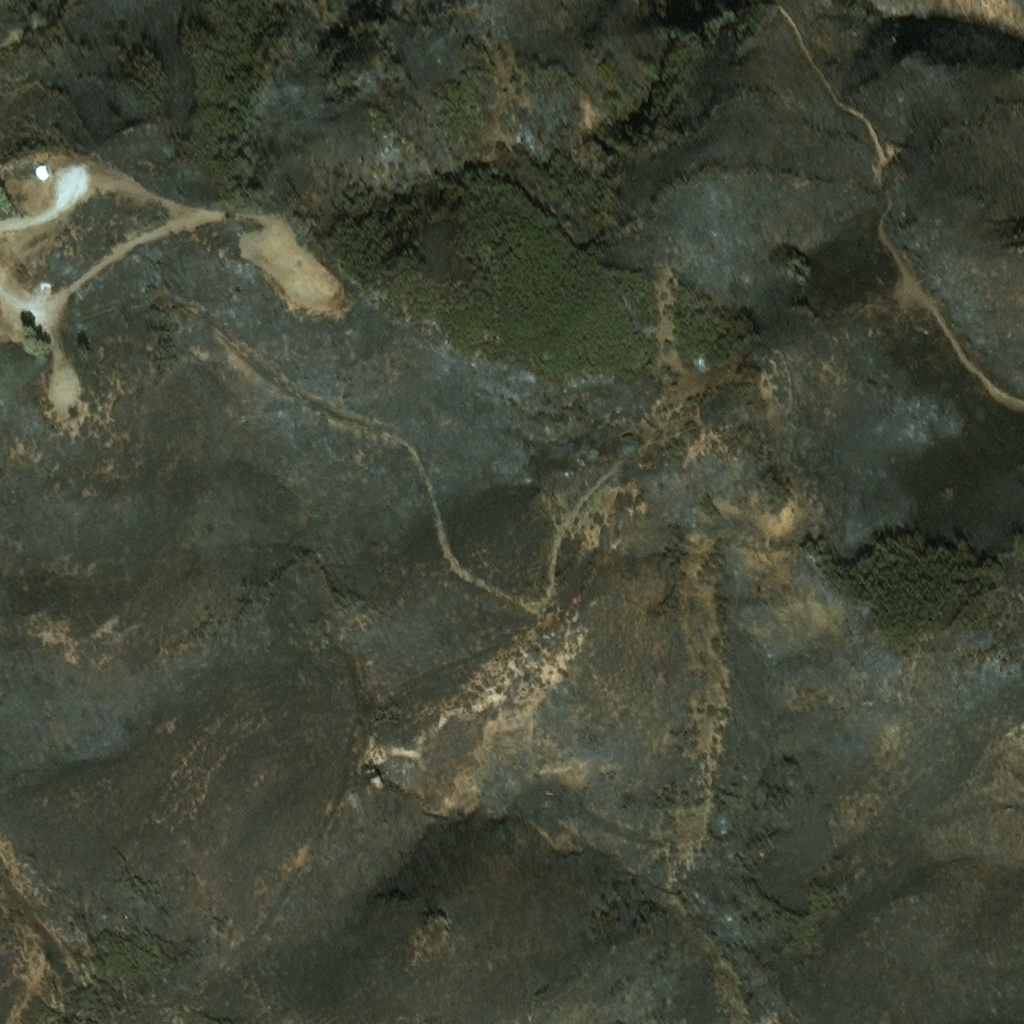0 no-damage: (39, 168, 51, 182)
